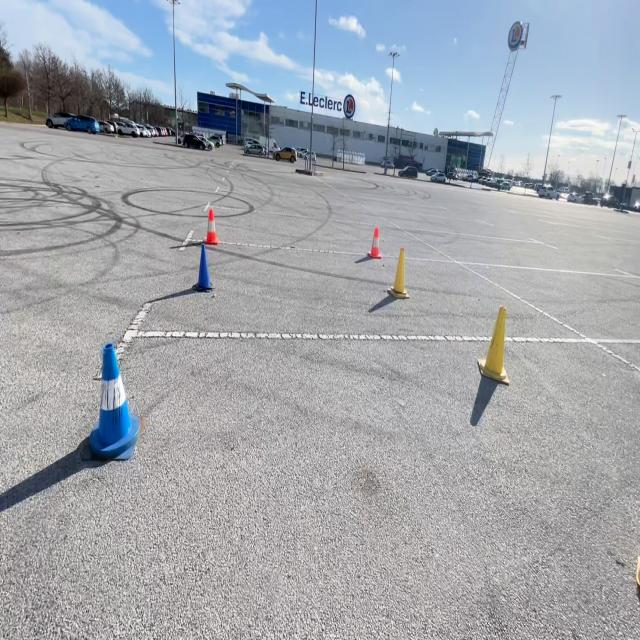blue_cone: (200, 0, 313, 100), (82, 339, 140, 463), (190, 240, 215, 292), (630, 136, 640, 212)
orange_cone: (203, 205, 220, 244), (368, 226, 382, 258)
yellow_cone: (477, 302, 510, 384), (386, 245, 410, 298)
